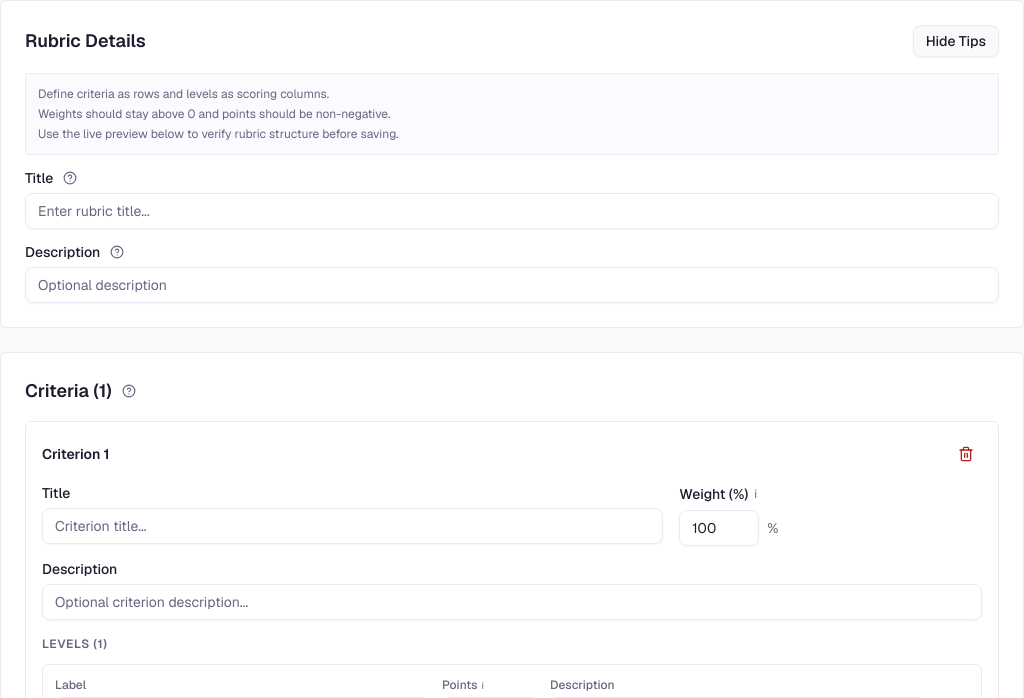
RubricBuilderForm › create mode › toggles tips section
Expected: the text "Define criteria as rows and levels as scoring columns." is shown, [38,86,329,102]
Click the button "Hide Tips".
click(956, 41)  # box [913,25,999,57]
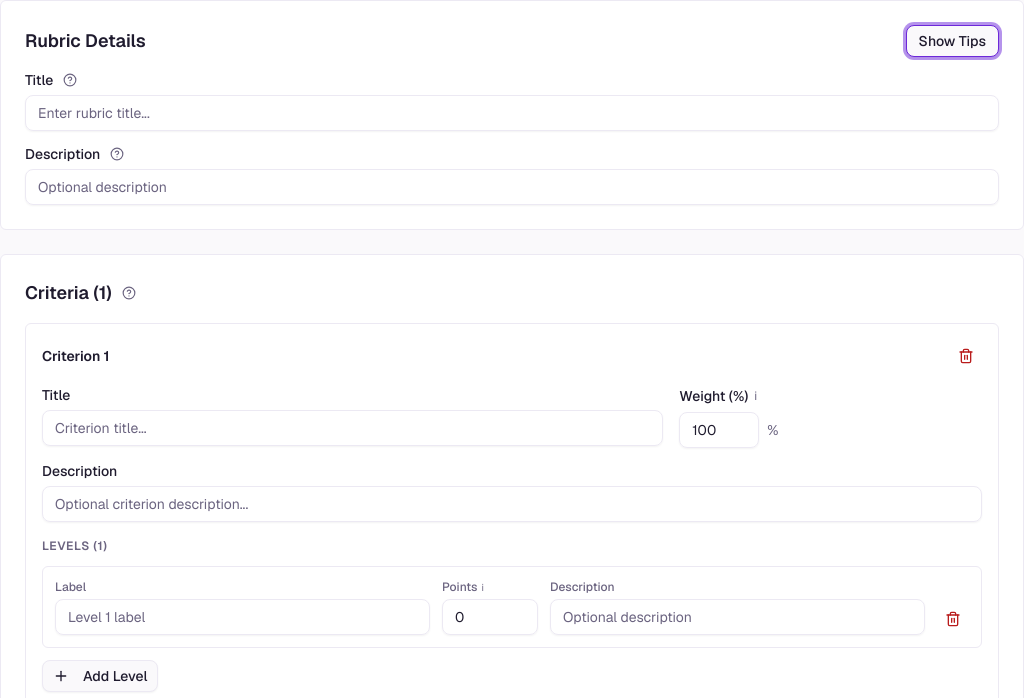
Expected: the text "Define criteria as rows" is gone
Click the button "Show Tips".
click(952, 41)  # box [906,25,999,57]
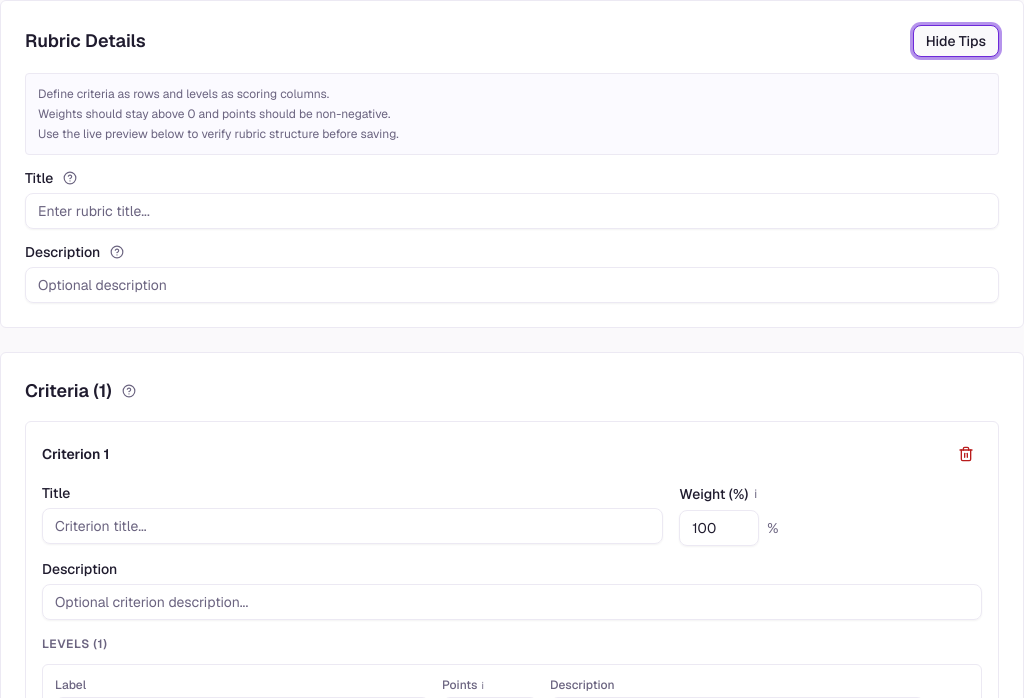
Expected: the text "Define criteria as rows and levels as scoring columns." is shown, [38,86,329,102]
